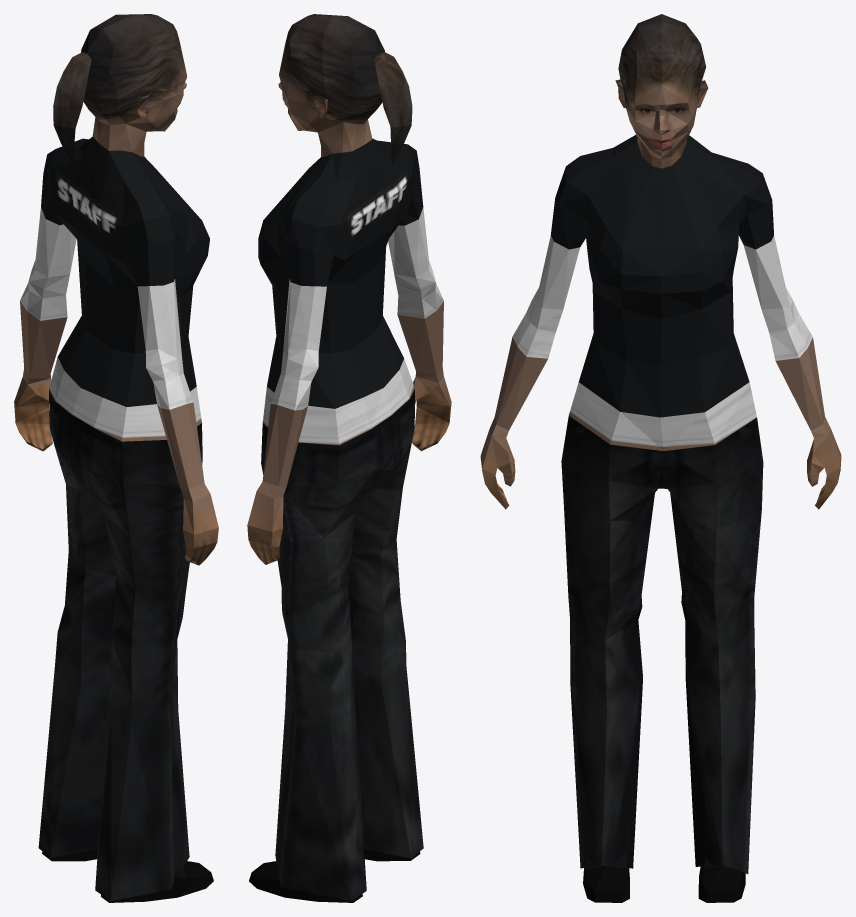
Rendered from wfyclot.obj.
The picture shows the model from 3 angles, left to right: view 1: azimuth 30°, elevation 25°; view 2: azimuth 150°, elevation 25°; view 3: azimuth 270°, elevation 25°; orthographic projection.
Visible parts, largest first — view 1: _Pelvis; view 2: _Pelvis; view 3: _Pelvis.
Boxes of the visible parts, x1=… form: _Pelvis: x1=14, y1=14, x2=218, y2=902; _Pelvis: x1=247, y1=14, x2=451, y2=902; _Pelvis: x1=480, y1=14, x2=841, y2=902.
Bounding box in the file's own units: 0.3109 × 1.8 × 0.6856.
1 material, 1 textured.
